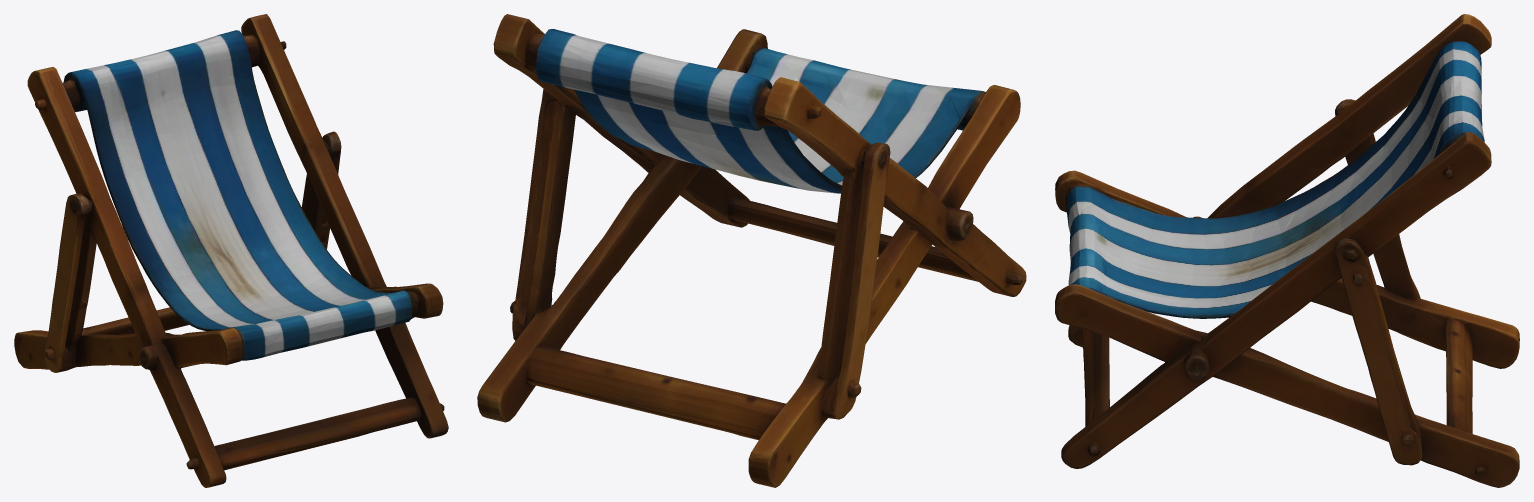
File: striped-deck-chair.glb
3 renders of one model, left to right at view 1: azimuth 30°, elevation 25°; view 2: azimuth 150°, elevation 25°; view 3: azimuth 270°, elevation 25°, orthographic. The views are drawn at different scales.
Parts seen in each view (by area): view 1: world; view 2: world; view 3: world.
Boxes of the visible parts, x1=… form: world: x1=14, y1=14, x2=448, y2=487; world: x1=477, y1=14, x2=1026, y2=487; world: x1=1055, y1=14, x2=1519, y2=487.
Bounding box in the file's own units: 0.7576 × 0.8267 × 0.9998.
Materials: 1 (1 with a texture image).
